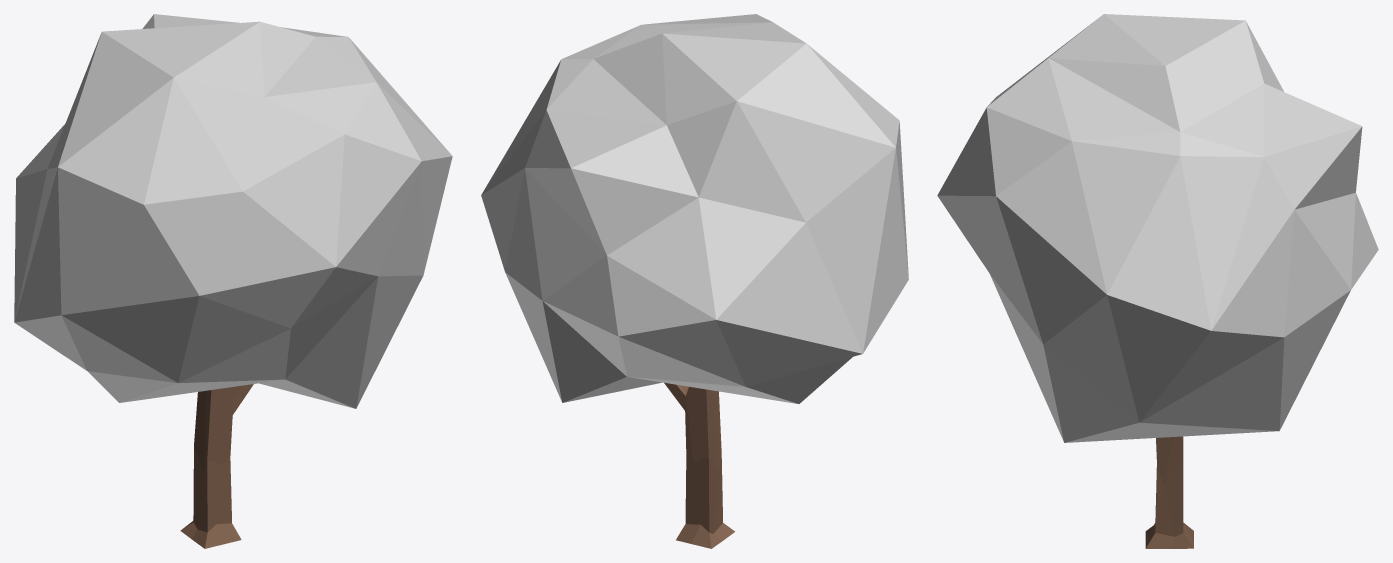
The model's file is Tree_13_White.fbx.
The picture shows the model from 3 angles, left to right: view 1: azimuth 30°, elevation 25°; view 2: azimuth 150°, elevation 25°; view 3: azimuth 270°, elevation 25°; orthographic projection. The views are drawn at different scales.
Parts seen in each view (by area): view 1: Tree_13_White_Part_1, Tree_13_White_Part_2; view 2: Tree_13_White_Part_1, Tree_13_White_Part_2; view 3: Tree_13_White_Part_1, Tree_13_White_Part_2.
Part boxes in pixels (box(x1,y1,x2,y2)): Tree_13_White_Part_1: box(14, 14, 452, 408); Tree_13_White_Part_2: box(180, 384, 253, 548); Tree_13_White_Part_1: box(481, 14, 908, 403); Tree_13_White_Part_2: box(664, 382, 734, 548); Tree_13_White_Part_1: box(937, 14, 1378, 442); Tree_13_White_Part_2: box(1145, 436, 1193, 548).
Size of the model in its own units: 643 by 796 by 641.
